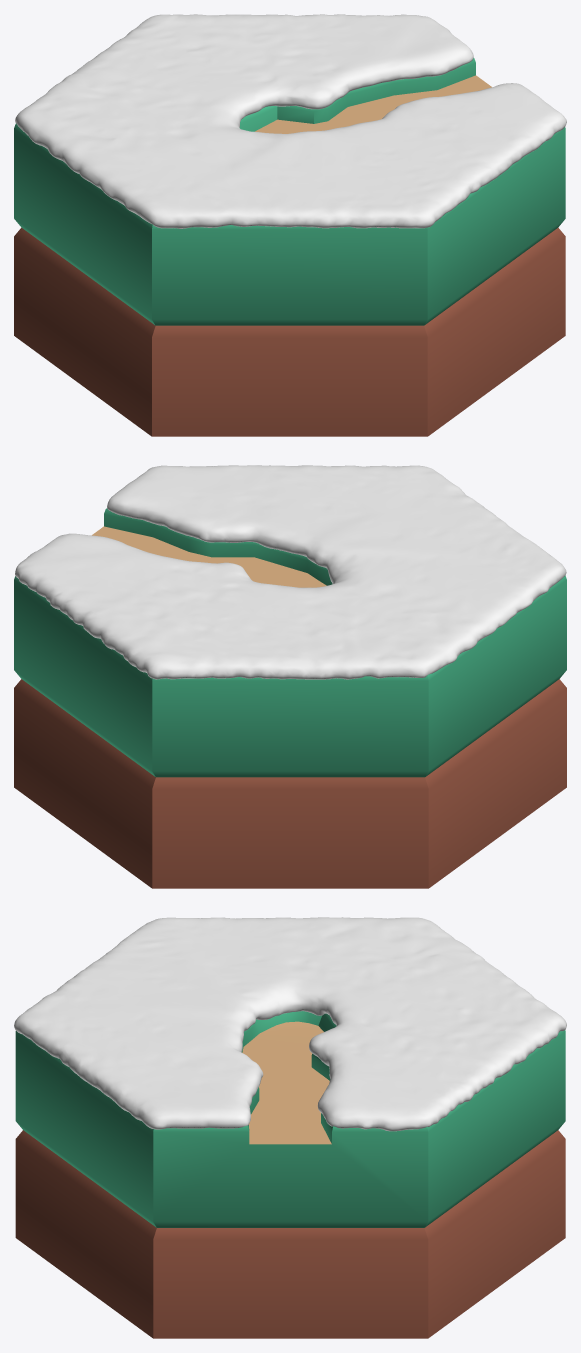
Rendered from snow_hex_forest_roadA_detail.fbx.
3 views of the same model, one above another, from view 1: azimuth 30°, elevation 25°; view 2: azimuth 150°, elevation 25°; view 3: azimuth 270°, elevation 25° (orthographic).
Visible parts, largest first — view 1: SnowBall.001, hex_forest_roadA_detail.002, hex_forest_roadA_detail.001, hex_forest_roadA_detail; view 2: SnowBall.001, hex_forest_roadA_detail.002, hex_forest_roadA_detail.001, hex_forest_roadA_detail; view 3: SnowBall.001, hex_forest_roadA_detail.002, hex_forest_roadA_detail.001, hex_forest_roadA_detail.
Part boxes in pixels (box(x1,y1,x2,y2)): SnowBall.001: box(15, 14, 566, 228); hex_forest_roadA_detail.002: box(14, 227, 565, 436); hex_forest_roadA_detail.001: box(14, 58, 565, 325); hex_forest_roadA_detail: box(255, 75, 491, 133); SnowBall.001: box(15, 465, 566, 679); hex_forest_roadA_detail.002: box(14, 679, 566, 888); hex_forest_roadA_detail.001: box(14, 508, 566, 777); hex_forest_roadA_detail: box(92, 526, 326, 587); SnowBall.001: box(14, 917, 566, 1131); hex_forest_roadA_detail.002: box(15, 1130, 565, 1338); hex_forest_roadA_detail.001: box(15, 1011, 565, 1227); hex_forest_roadA_detail: box(242, 1021, 331, 1144).
Bounding box in the file's own units: 204 × 104 × 232.
